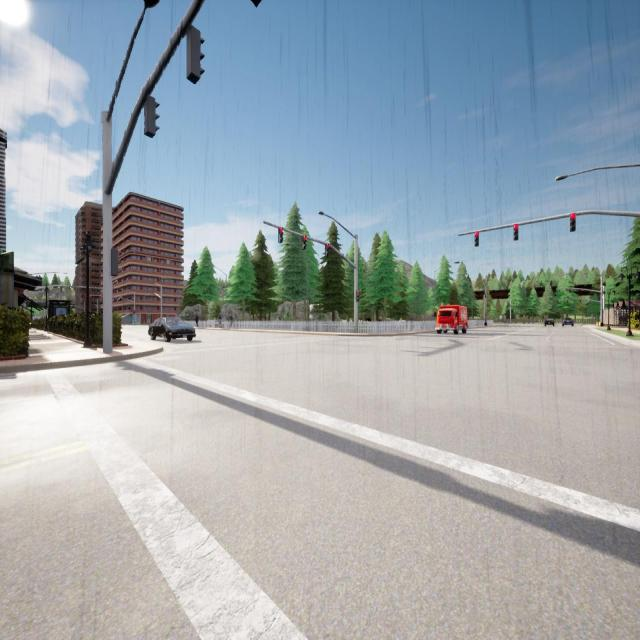Pedestrian: (195, 313, 199, 328), (218, 313, 222, 328), (229, 313, 233, 328)
Traffic_Signs: (500, 315, 502, 319)
Vehicle: (149, 317, 195, 342), (437, 306, 467, 333), (562, 318, 574, 326), (544, 318, 554, 326)
traffic_light: (187, 26, 205, 84), (145, 95, 159, 138), (111, 250, 118, 275), (570, 213, 575, 230), (278, 228, 283, 243), (474, 232, 479, 246), (514, 225, 518, 241), (302, 235, 306, 249), (325, 243, 329, 256), (356, 290, 359, 302), (113, 296, 117, 300), (89, 294, 92, 299), (100, 295, 103, 299), (133, 310, 136, 314), (557, 299, 558, 303), (567, 298, 568, 302), (580, 299, 581, 303), (570, 288, 570, 293)
